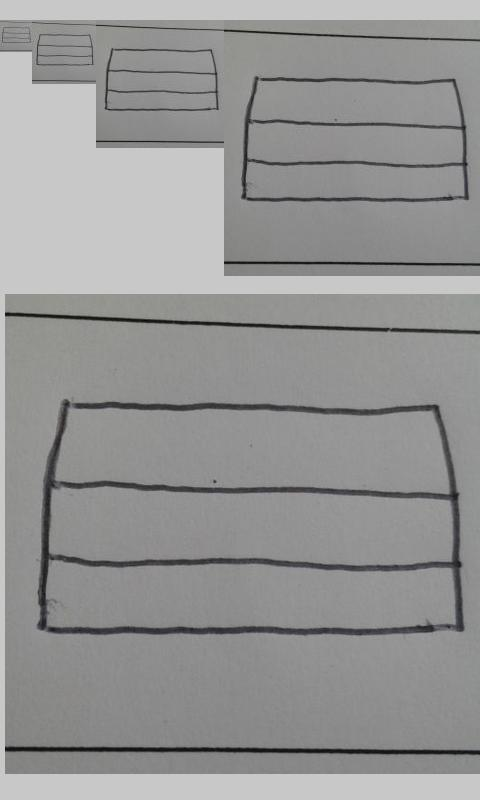list_view: (35, 395, 464, 641), (240, 75, 470, 208), (104, 47, 221, 112), (35, 33, 94, 67), (1, 25, 31, 44)
